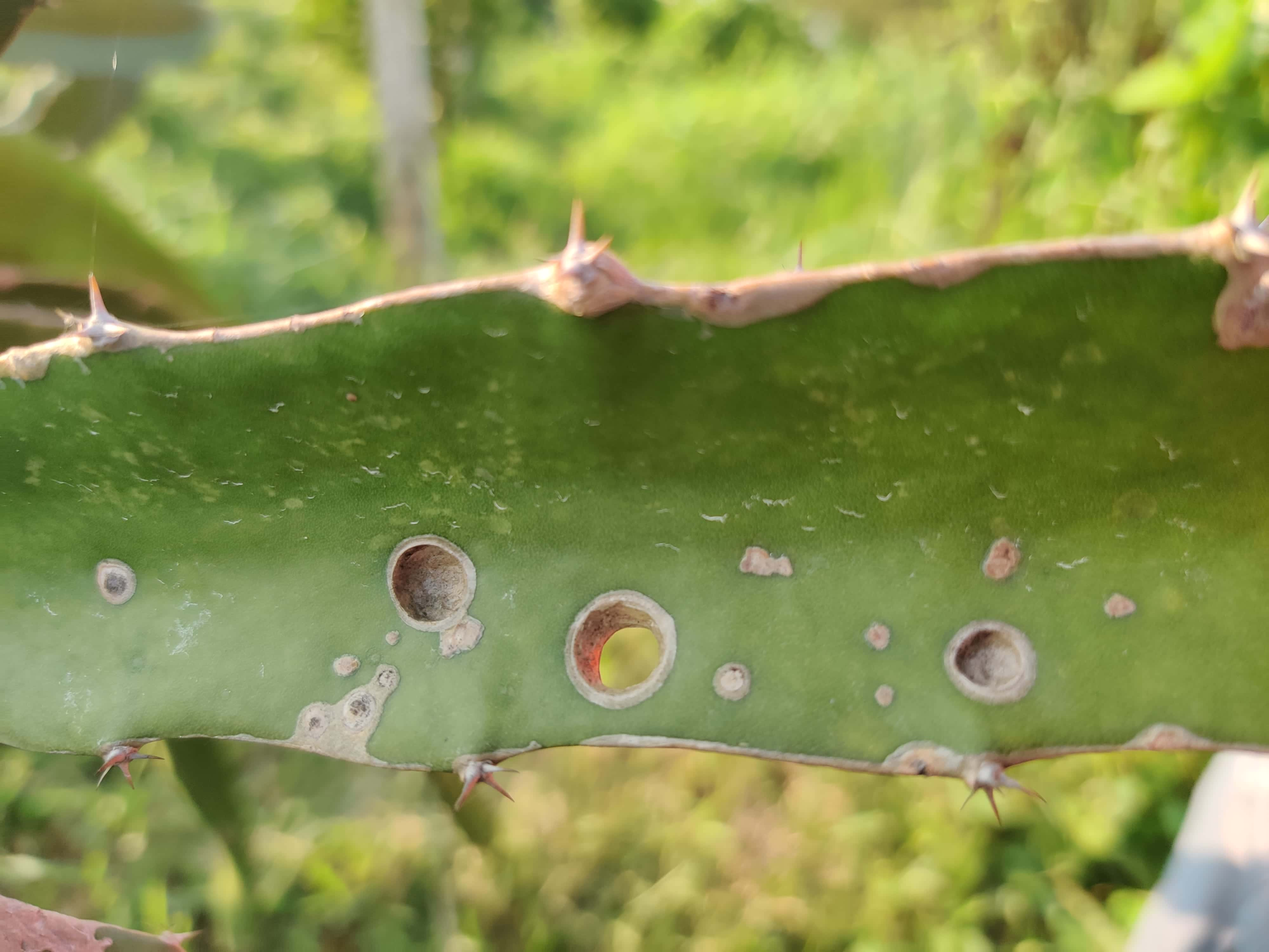stemcanker: (562, 587, 680, 710), (379, 529, 483, 630), (940, 616, 1039, 702)
